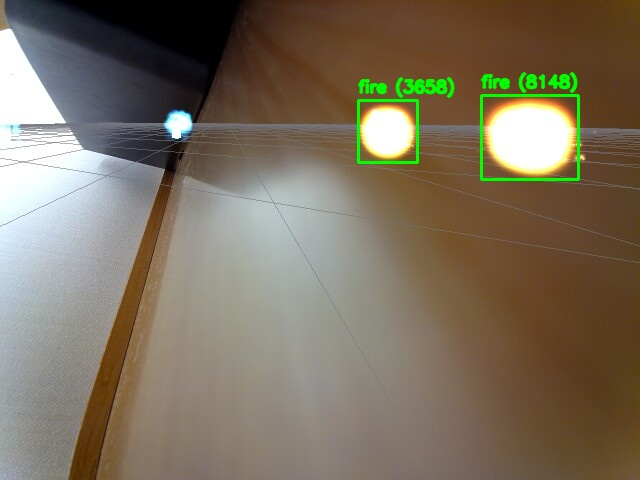fire: (481, 95, 578, 179), (358, 100, 417, 162)
